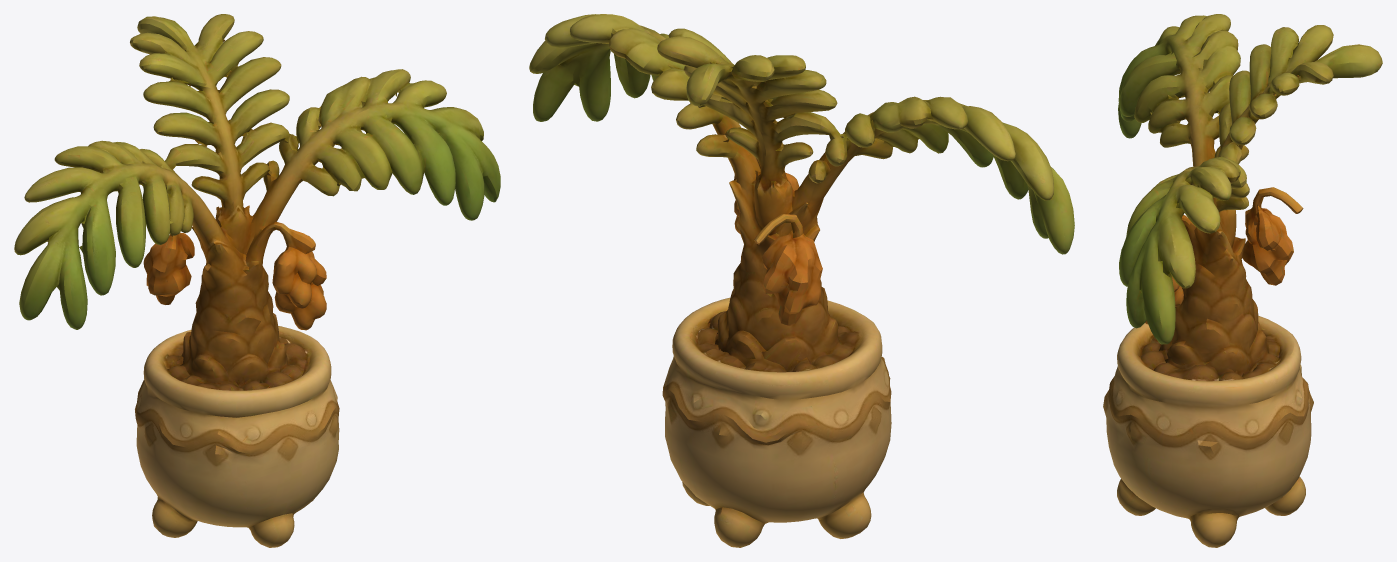
The model's file is Meshy_AI_model.glb.
3 views of the same model, side by side, from view 1: azimuth 30°, elevation 25°; view 2: azimuth 150°, elevation 25°; view 3: azimuth 270°, elevation 25° (orthographic). The views are drawn at different scales.
Visible parts, largest first — view 1: Mesh0; view 2: Mesh0; view 3: Mesh0.
Part boxes in pixels (x1=…): Mesh0: x1=14, y1=14, x2=500, y2=547; Mesh0: x1=529, y1=14, x2=1074, y2=547; Mesh0: x1=1103, y1=14, x2=1382, y2=547.
Bounding box in the file's own units: 1.9 × 1.74 × 0.936.
Materials: 1 (1 with a texture image).
